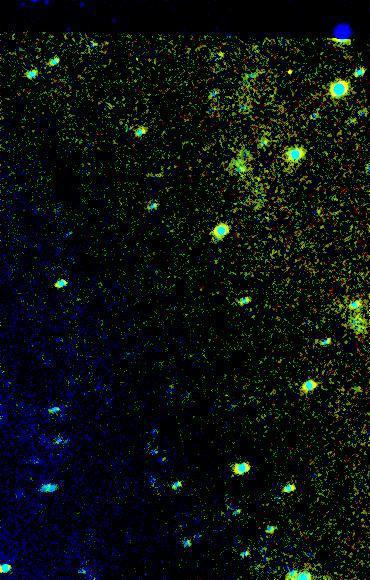star: (278, 58, 308, 88)
